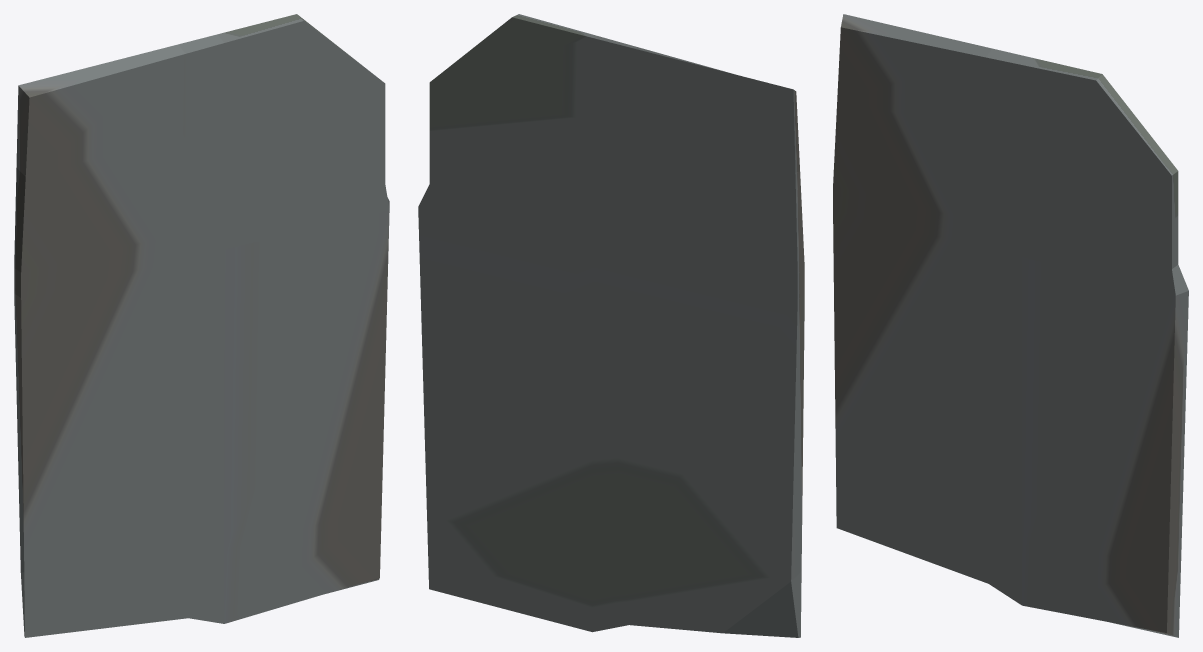
Rendered from SM_Metal_Sheet_B.fbx.
The picture shows the model from 3 angles, left to right: view 1: azimuth 30°, elevation 25°; view 2: azimuth 150°, elevation 25°; view 3: azimuth 330°, elevation 25°; orthographic projection. The views are drawn at different scales.
Parts seen in each view (by area): view 1: SM_Metal_Sheet_B; view 2: SM_Metal_Sheet_B; view 3: SM_Metal_Sheet_B.
Boxes of the visible parts, <box> form: SM_Metal_Sheet_B: <box>14,14,389,637</box>; SM_Metal_Sheet_B: <box>418,14,804,637</box>; SM_Metal_Sheet_B: <box>833,14,1188,637</box>.
Size of the model in its own units: 96.36 by 144 by 3.09.
